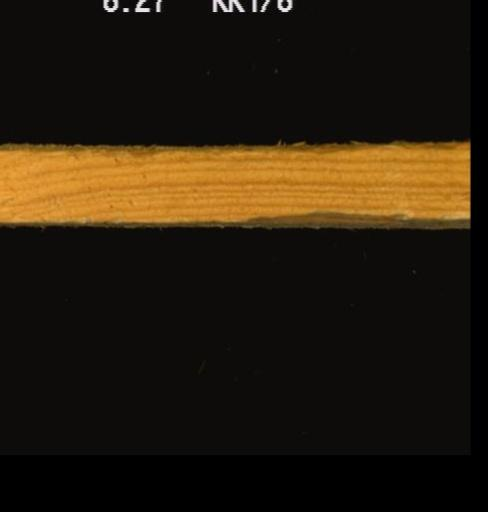wave: (225, 205, 448, 225)
